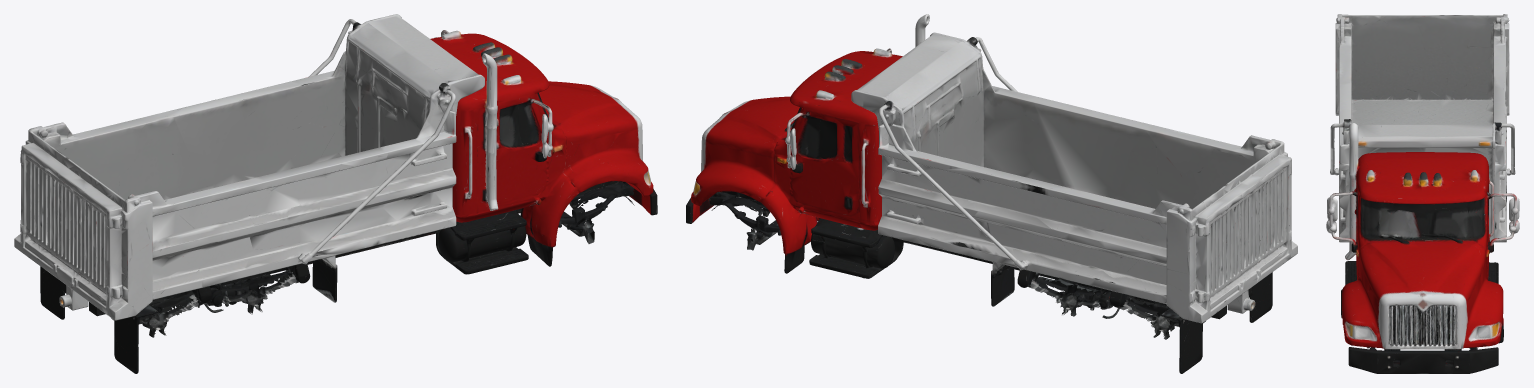
The model's file is dumptruck.glb.
3 renders of one model, left to right at view 1: azimuth 30°, elevation 25°; view 2: azimuth 150°, elevation 25°; view 3: azimuth 270°, elevation 25°, orthographic. The views are drawn at different scales.
Visible parts, largest first — view 1: dumpbed, dumptruck-body; view 2: dumpbed, dumptruck-body; view 3: dumptruck-body, dumpbed.
Boxes of the visible parts, <box> form: dumpbed: <box>14,14,480,322</box>; dumptruck-body: <box>40,14,657,373</box>; dumpbed: <box>855,33,1297,324</box>; dumptruck-body: <box>686,14,1272,373</box>; dumptruck-body: <box>1326,123,1519,373</box>; dumpbed: <box>1330,14,1515,242</box>.
Size of the model in its own units: 7.86 by 3.06 by 2.72.
Materials: 1 (1 with a texture image).
